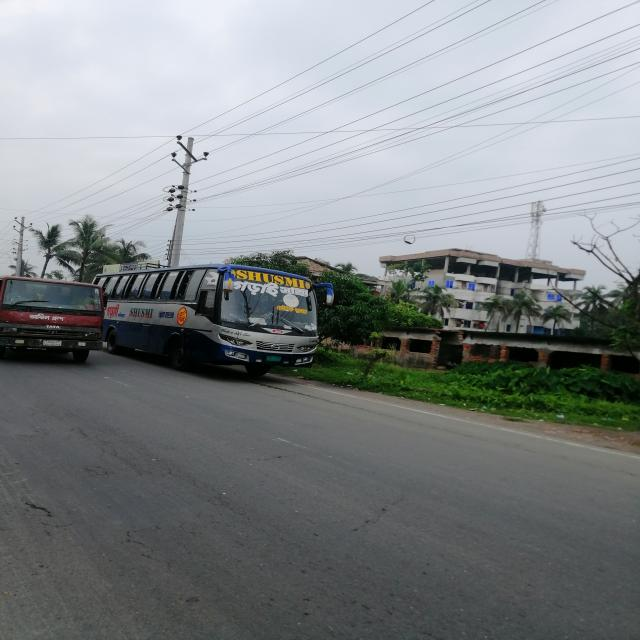Bus: (195, 263, 328, 385)
Pick-up-van: (1, 274, 120, 362)
